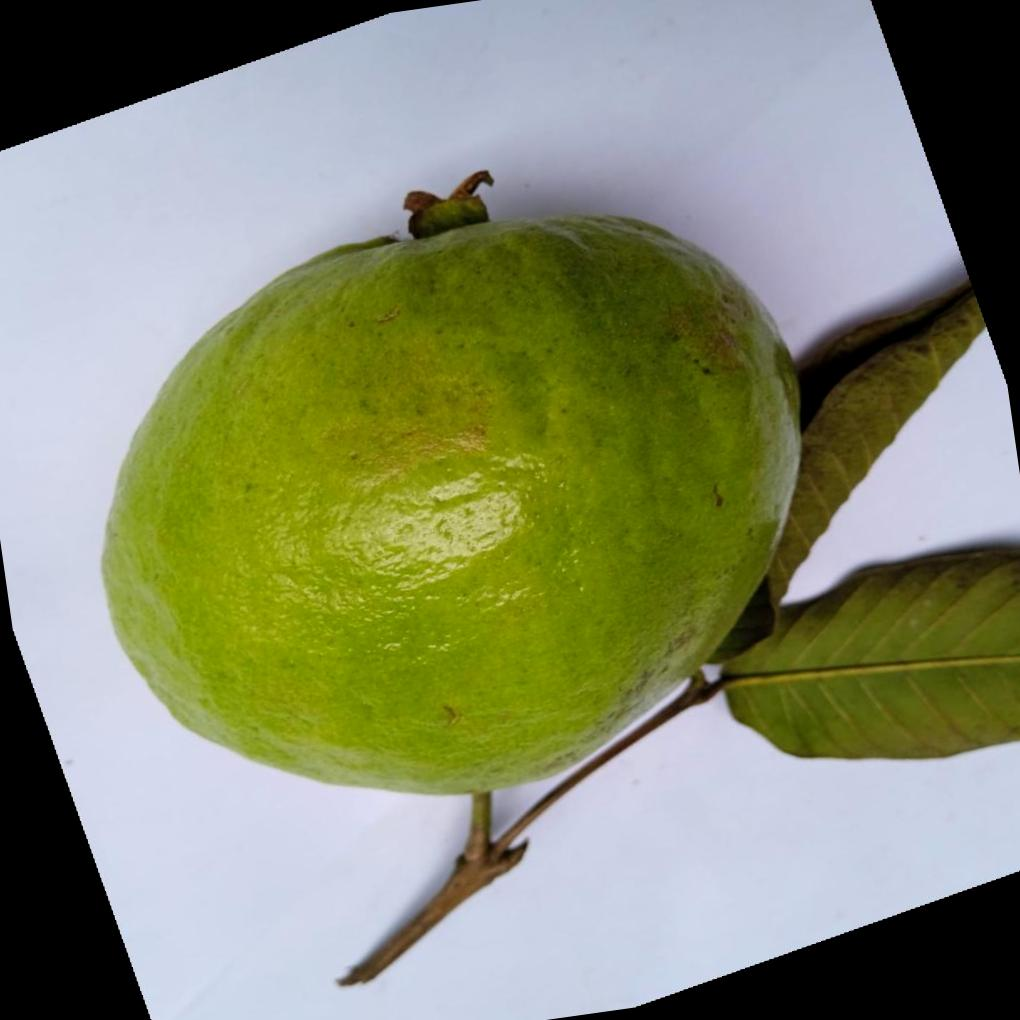FreshGuava: (97, 185, 806, 795)
